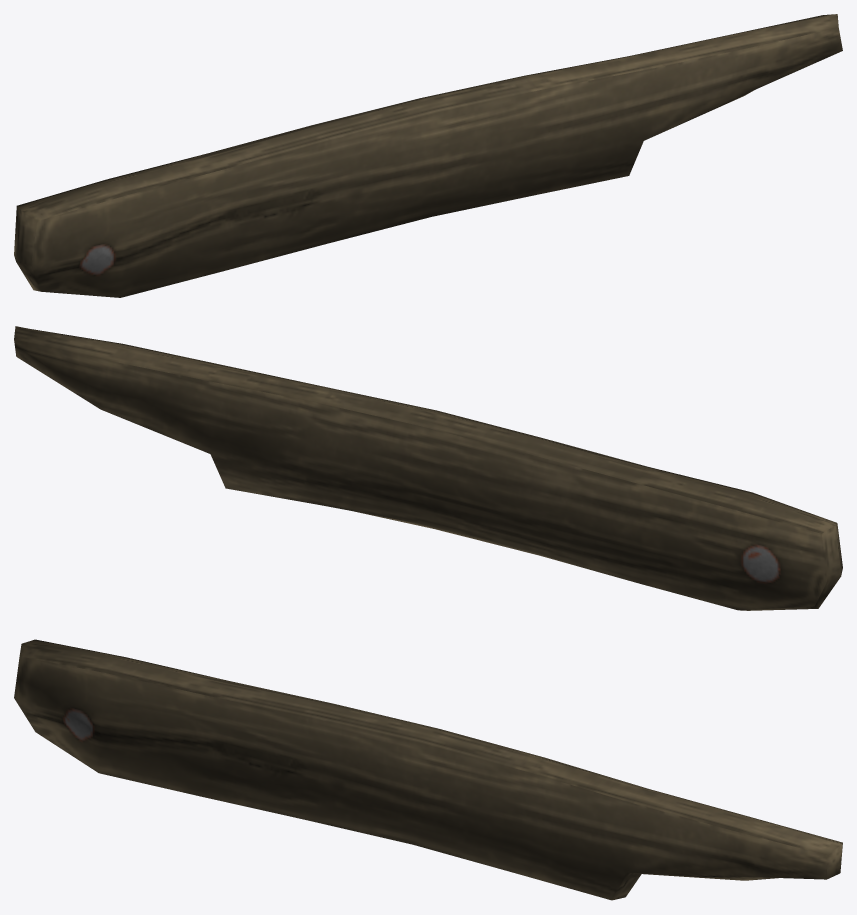
Rendered from wood_plank_D.fbx.
The picture shows the model from 3 angles, top to bottom: view 1: azimuth 30°, elevation 25°; view 2: azimuth 150°, elevation 25°; view 3: azimuth 330°, elevation 25°; orthographic projection.
Visible parts, largest first — view 1: wood_plank_D; view 2: wood_plank_D; view 3: wood_plank_D.
Part boxes in pixels (left/top/right/bottom): wood_plank_D: left=14, top=14, right=842, bottom=297; wood_plank_D: left=14, top=326, right=842, bottom=610; wood_plank_D: left=14, top=639, right=842, bottom=900.
Size of what is drawn, in the model's own units: 227 by 31.78 by 12.59.
1 material, 1 textured.
